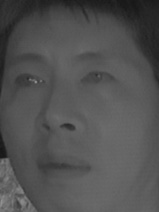eye: (78, 68, 117, 89), (9, 71, 49, 91)
mouth: (30, 146, 94, 182)
